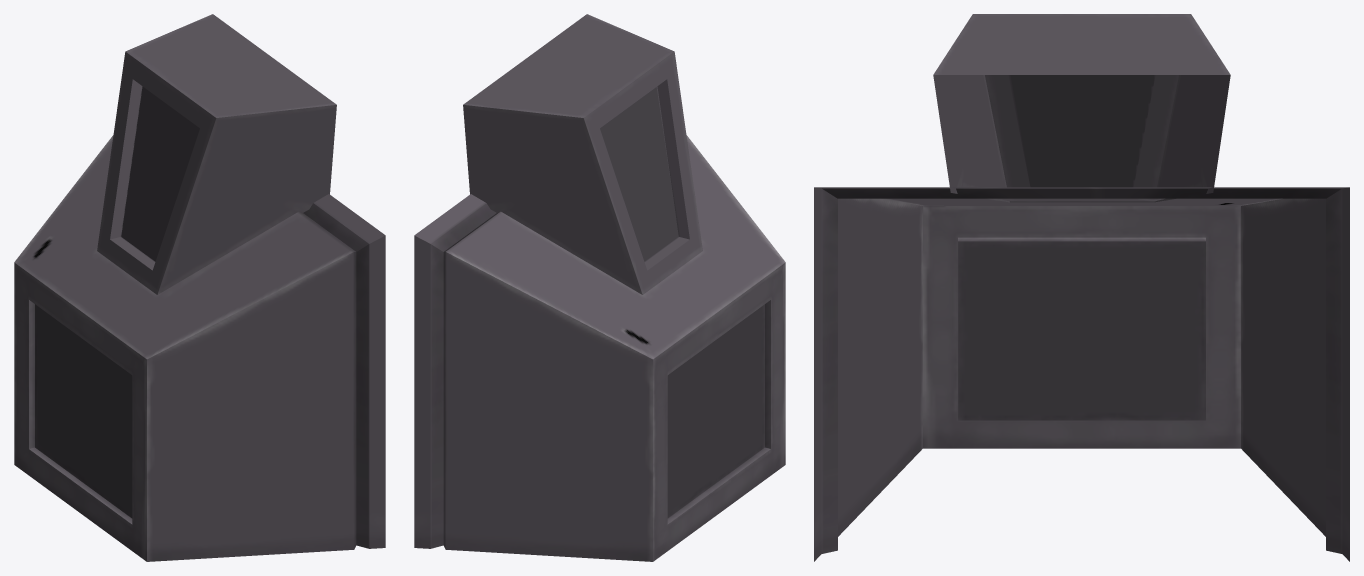
Rendered from wall_device.fbx.
The picture shows the model from 3 angles, left to right: view 1: azimuth 30°, elevation 25°; view 2: azimuth 150°, elevation 25°; view 3: azimuth 270°, elevation 25°; orthographic projection. The views are drawn at different scales.
Visible parts, largest first — view 1: Cube; view 2: Cube; view 3: Cube.
Part boxes in pixels (x1,y1,x2,y2): Cube: (14,14,385,561); Cube: (414,14,785,561); Cube: (814,14,1349,561).
Size of the model in its own units: 1 by 2.01 by 2.
1 material, 1 textured.
